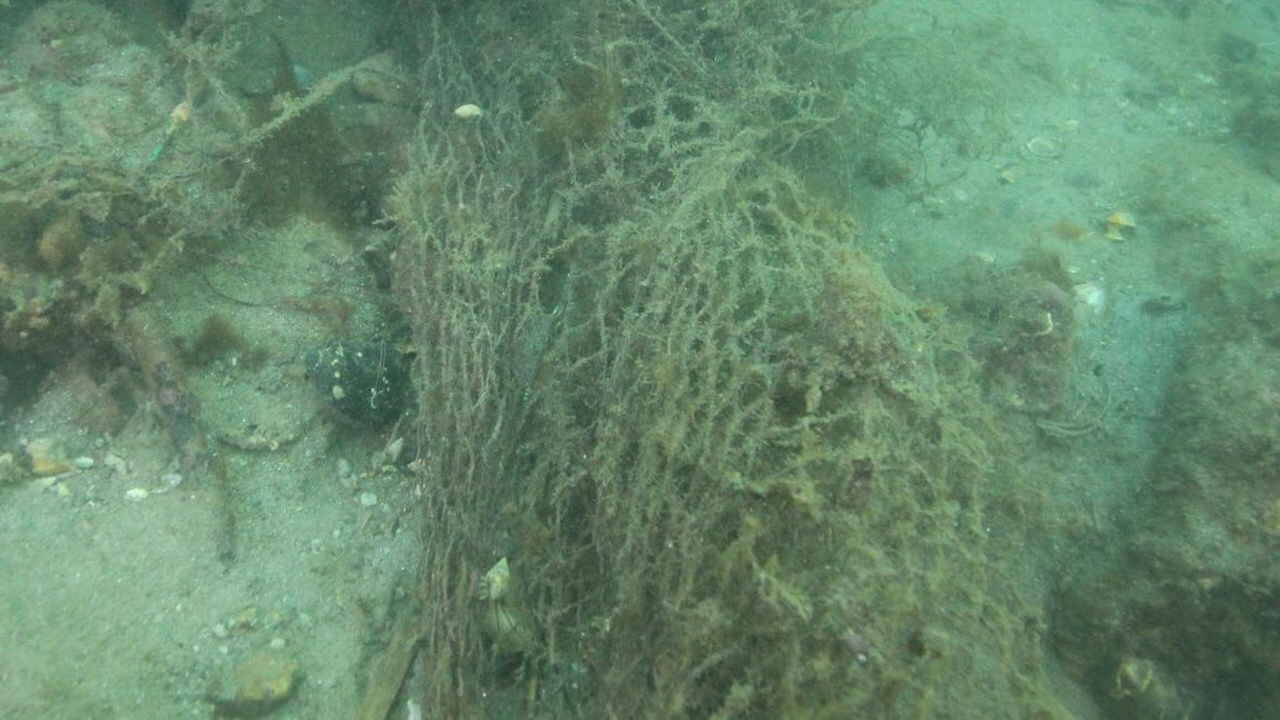fish net: (390, 0, 1053, 720)
